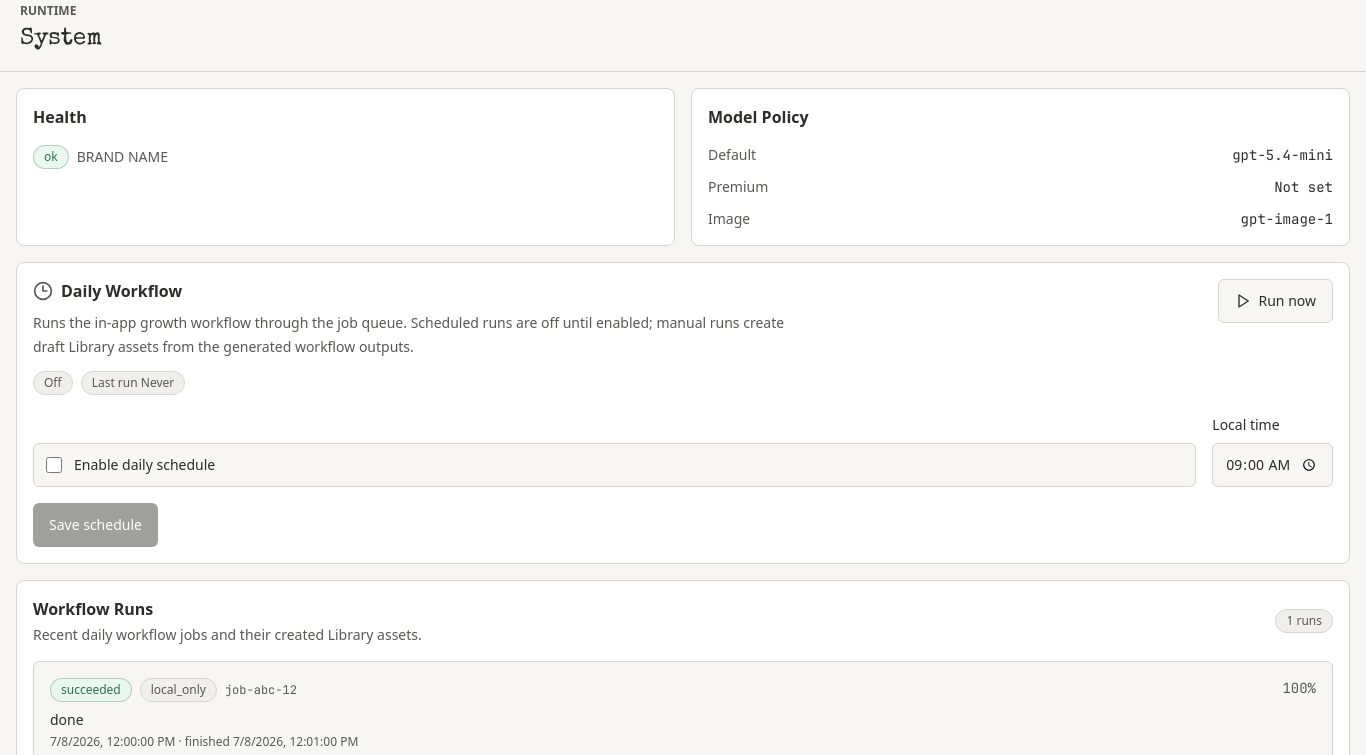
Test case: P3-1 System daily workflow controls › updates schedule settings and starts a manual workflow run
Check: the heading "Daily Workflow" is shown, box 61,279 -> 182,303
Click the checkbox labelled "Enable daily schedule": {"x": 54, "y": 465} 46,457 -> 62,473
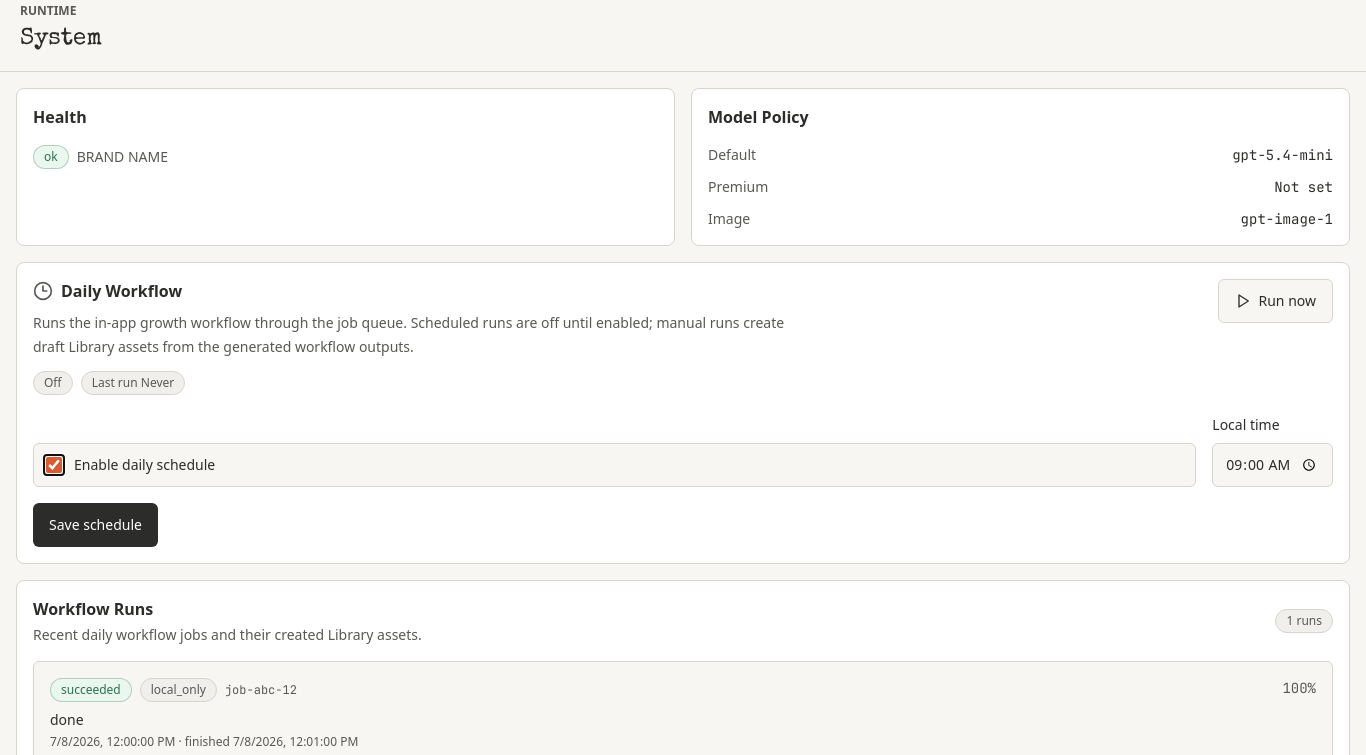
Replace the text in the time field labelled "Local time" with "08:15": {"x": 1273, "y": 465} 1212,443 -> 1333,487
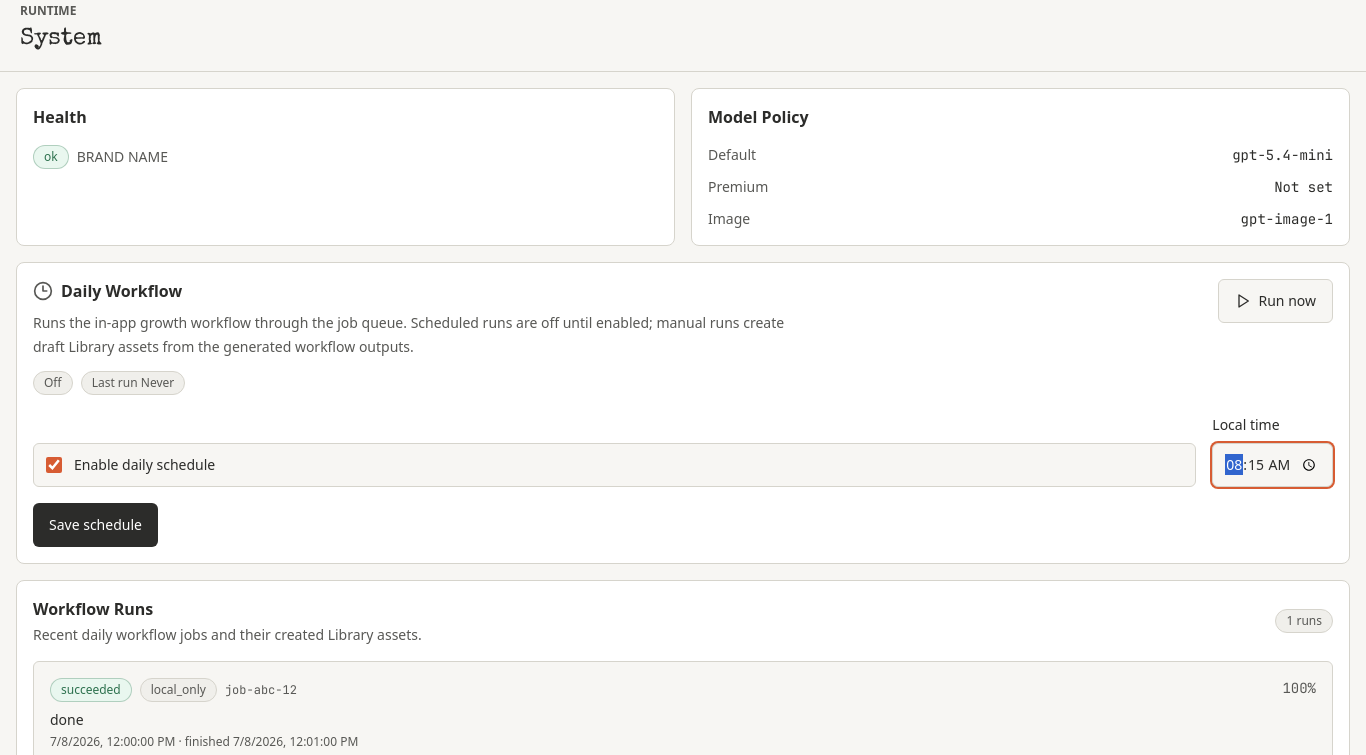
Click the button "Save schedule": {"x": 95, "y": 525} 33,503 -> 158,547
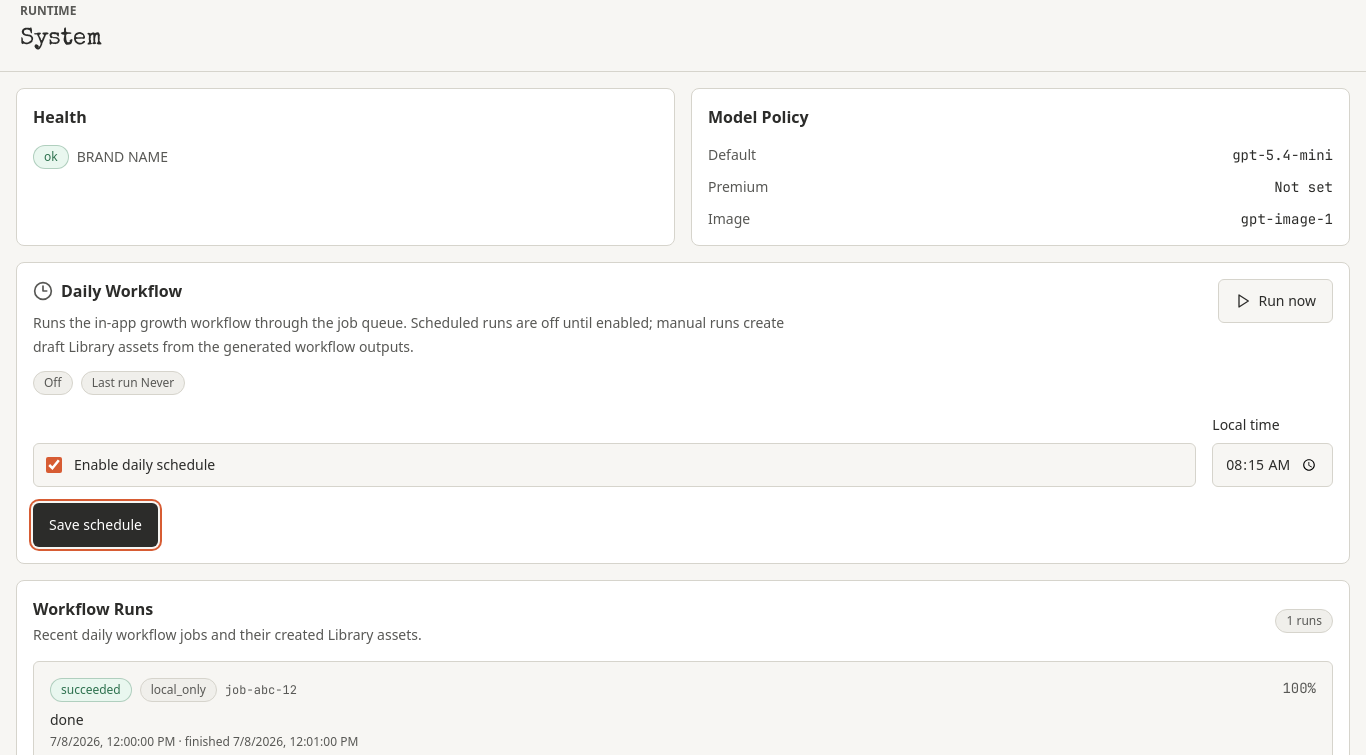
Click the button "Run now": {"x": 1275, "y": 301} 1218,279 -> 1333,323
(page scrolled)
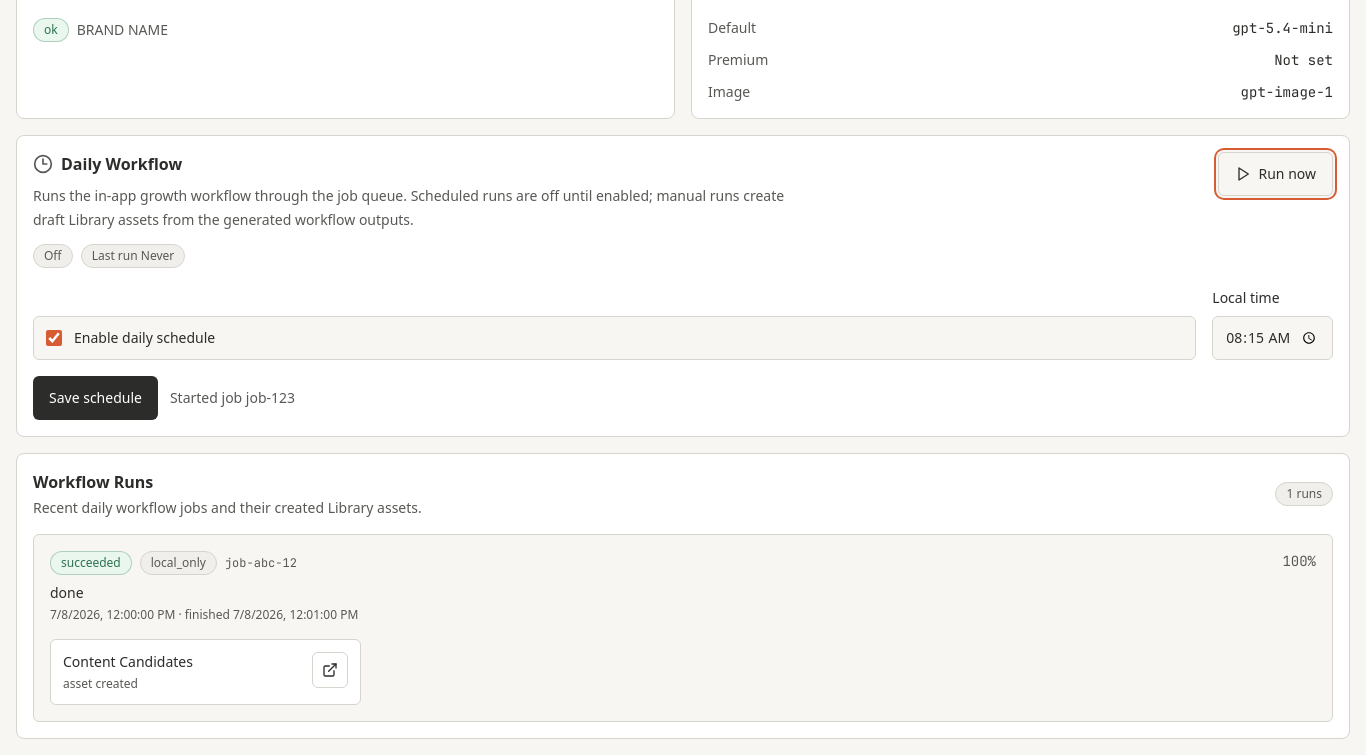
Check: the heading "Workflow Runs" is shown, box 33,471 -> 153,493
Check: the text "Started job job-123" is shown, box 170,388 -> 295,408
